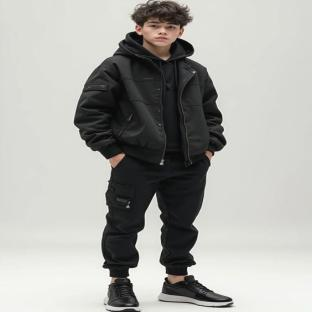Human: (75, 0, 233, 312)
